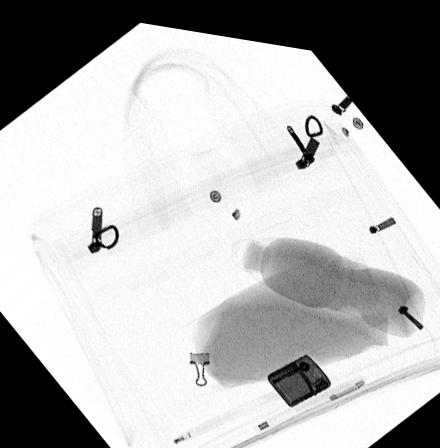Lighter: (266, 341, 330, 396)
